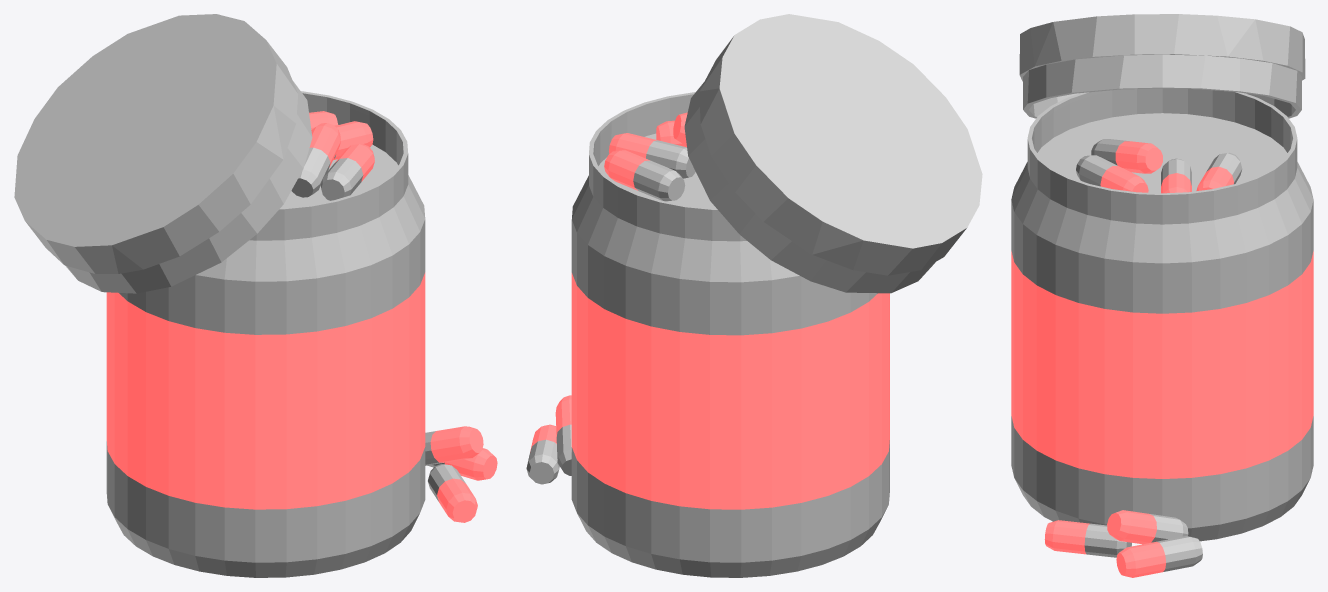
File: pills.fbx
3 renders of one model, left to right at view 1: azimuth 30°, elevation 25°; view 2: azimuth 150°, elevation 25°; view 3: azimuth 270°, elevation 25°, orthographic. The views are drawn at different scales.
Parts seen in each view (by area): view 1: Cylinder.001; view 2: Cylinder.001; view 3: Cylinder.001.
Part boxes in pixels (box(x1,y1,x2,y2)): Cylinder.001: box(14, 14, 497, 577); Cylinder.001: box(526, 14, 982, 577); Cylinder.001: box(1011, 14, 1313, 577).
Bounding box in the file's own units: 61.25 × 65.27 × 38.45.
